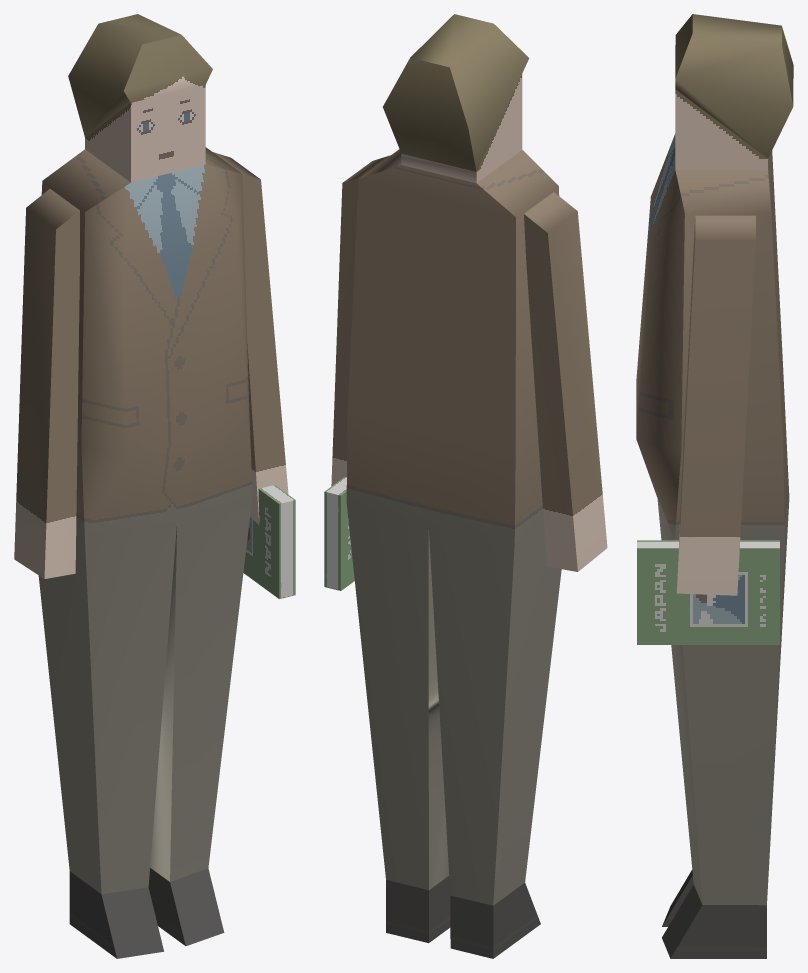
Rendered from 0228_Skinny.glb.
3 renders of one model, left to right at view 1: azimuth 30°, elevation 25°; view 2: azimuth 150°, elevation 25°; view 3: azimuth 270°, elevation 25°, orthographic.
Parts seen in each view (by area): view 1: part_0; view 2: part_0; view 3: part_0.
Boxes of the visible parts, x1,y1,x2,y2 form: part_0: [14, 14, 295, 958]; part_0: [324, 14, 607, 958]; part_0: [636, 14, 793, 958].
Bounding box in the file's own units: 0.5654 × 1.96 × 0.3075.
Materials: 1 (1 with a texture image).
